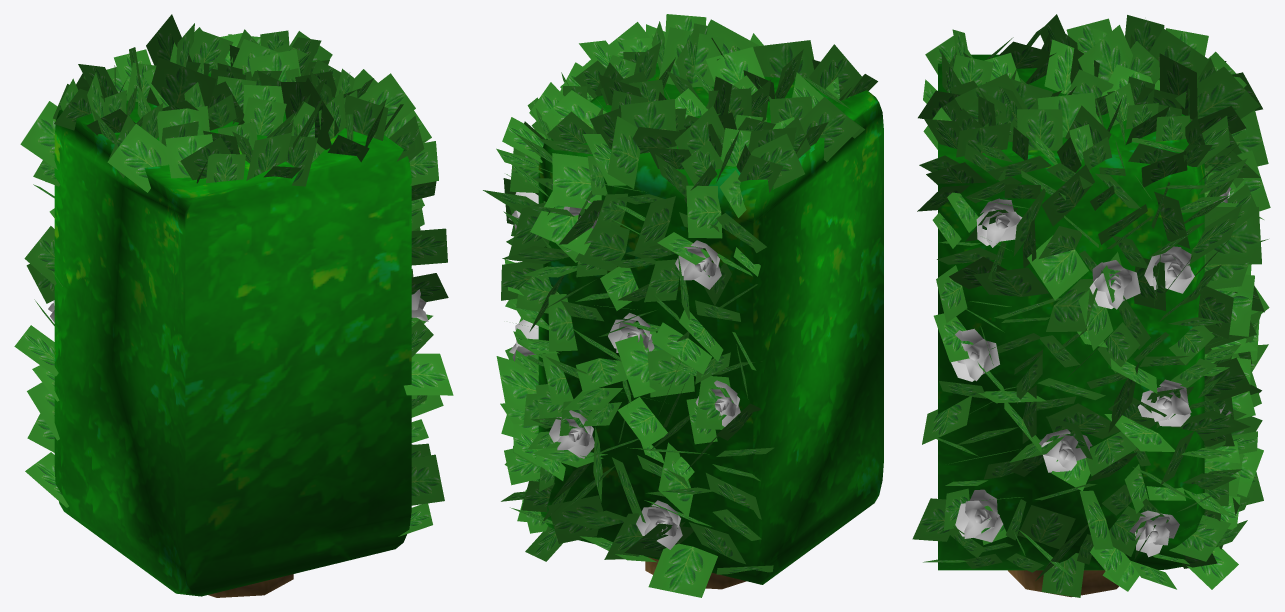
Rendered from sb_obj_outdoor012_Hedge04d.fbx.
3 renders of one model, left to right at view 1: azimuth 30°, elevation 25°; view 2: azimuth 150°, elevation 25°; view 3: azimuth 270°, elevation 25°, orthographic. The views are drawn at different scales.
Visible parts, largest first — view 1: sb_obj_outdoor012_Hedge01d, leaf_plus_d; view 2: leaf_plus_d, sb_obj_outdoor012_Hedge01d, rose_base.089, rose_base.093, rose_base.094, rose_base.090, rose_base.092; view 3: leaf_plus_d, sb_obj_outdoor012_Hedge01d, rose_base.099, rose_base.095, rose_base.097, rose_base.102, rose_base.100, rose_base.096, rose_base.101, rose_base.098.
Part boxes in pixels (bbox=[...]): sb_obj_outdoor012_Hedge01d: bbox=[54, 73, 411, 597]; leaf_plus_d: bbox=[14, 14, 453, 536]; leaf_plus_d: bbox=[483, 14, 877, 597]; sb_obj_outdoor012_Hedge01d: bbox=[538, 63, 883, 589]; rose_base.089: bbox=[675, 240, 721, 289]; rose_base.093: bbox=[636, 500, 682, 549]; rose_base.094: bbox=[549, 410, 594, 458]; rose_base.090: bbox=[608, 313, 654, 352]; rose_base.092: bbox=[695, 380, 740, 426]; leaf_plus_d: bbox=[912, 14, 1270, 597]; sb_obj_outdoor012_Hedge01d: bbox=[938, 54, 1204, 597]; rose_base.099: bbox=[955, 489, 1003, 542]; rose_base.095: bbox=[1089, 260, 1140, 309]; rose_base.097: bbox=[951, 328, 999, 381]; rose_base.102: bbox=[1138, 379, 1191, 426]; rose_base.100: bbox=[976, 198, 1022, 247]; rose_base.096: bbox=[1144, 246, 1194, 293]; rose_base.101: bbox=[1129, 510, 1179, 557]; rose_base.098: bbox=[1039, 429, 1092, 472].
Bounding box in the file's own units: 1.39 × 2.15 × 1.34.
